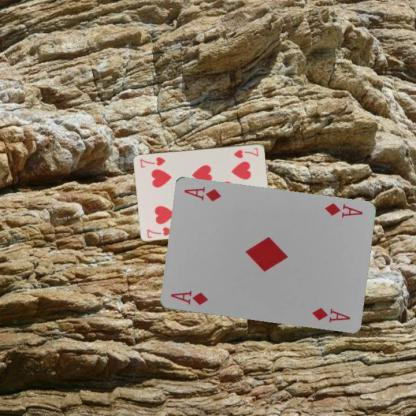7h: (231, 144, 260, 160), (144, 224, 173, 238)
Ad: (168, 288, 210, 307), (322, 200, 364, 219)
